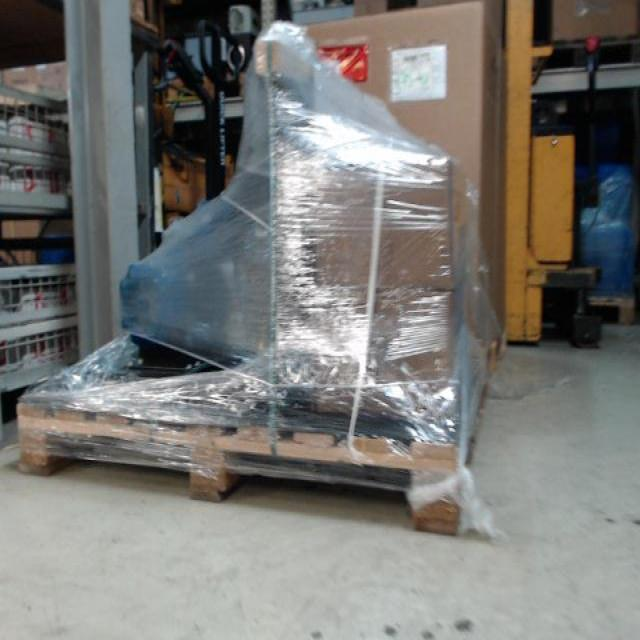pallet: (16, 402, 462, 542), (545, 38, 640, 74), (582, 296, 638, 329)
pallet_truck: (505, 3, 600, 348), (185, 11, 238, 206)
stillage: (1, 83, 82, 226), (0, 260, 73, 398)
